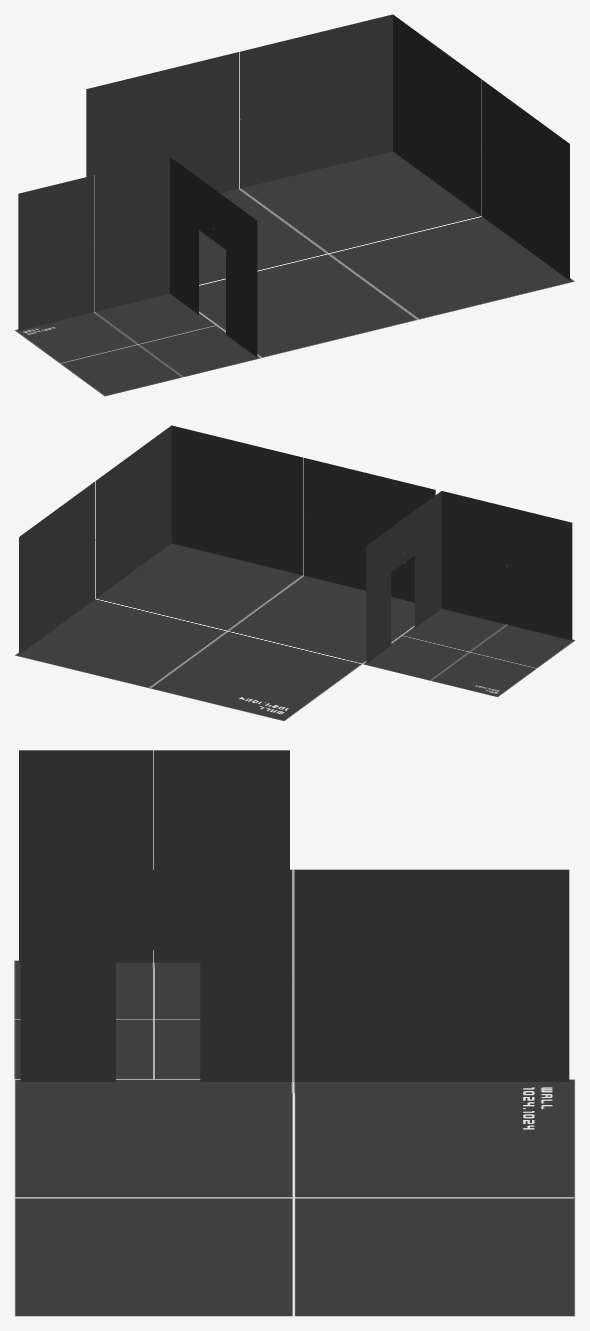
The model's file is break_room.gltf.
3 views of the same model, one above another, from view 1: azimuth 30°, elevation 25°; view 2: azimuth 150°, elevation 25°; view 3: azimuth 270°, elevation 25° (orthographic). The views are drawn at different scales.
Visible parts, largest first — view 1: LoungeInnerWall-col, LoungeFloor, BathroomInnerWall-col, BathroomFloor; view 2: LoungeInnerWall-col, LoungeFloor, BathroomInnerWall-col, BathroomFloor; view 3: LoungeFloor, LoungeInnerWall-col, BathroomInnerWall-col, BathroomFloor.
Boxes of the visible parts, box(x1,y1,x2,y2) form: LoungeInnerWall-col: box(86, 14, 569, 280); LoungeFloor: box(199, 151, 575, 357); BathroomInnerWall-col: box(18, 157, 257, 357); BathroomFloor: box(14, 294, 261, 396); LoungeInnerWall-col: box(19, 425, 435, 654); LoungeFloor: box(14, 543, 414, 721); BathroomInnerWall-col: box(366, 491, 572, 663); BathroomFloor: box(363, 609, 575, 697); LoungeFloor: box(14, 1079, 575, 1316); LoungeInnerWall-col: box(20, 869, 569, 1081); BathroomInnerWall-col: box(19, 750, 289, 962); BathroomFloor: box(14, 960, 200, 1079).
Size of the model in its own units: 18 by 5 by 12.
2 materials, 2 textured.
